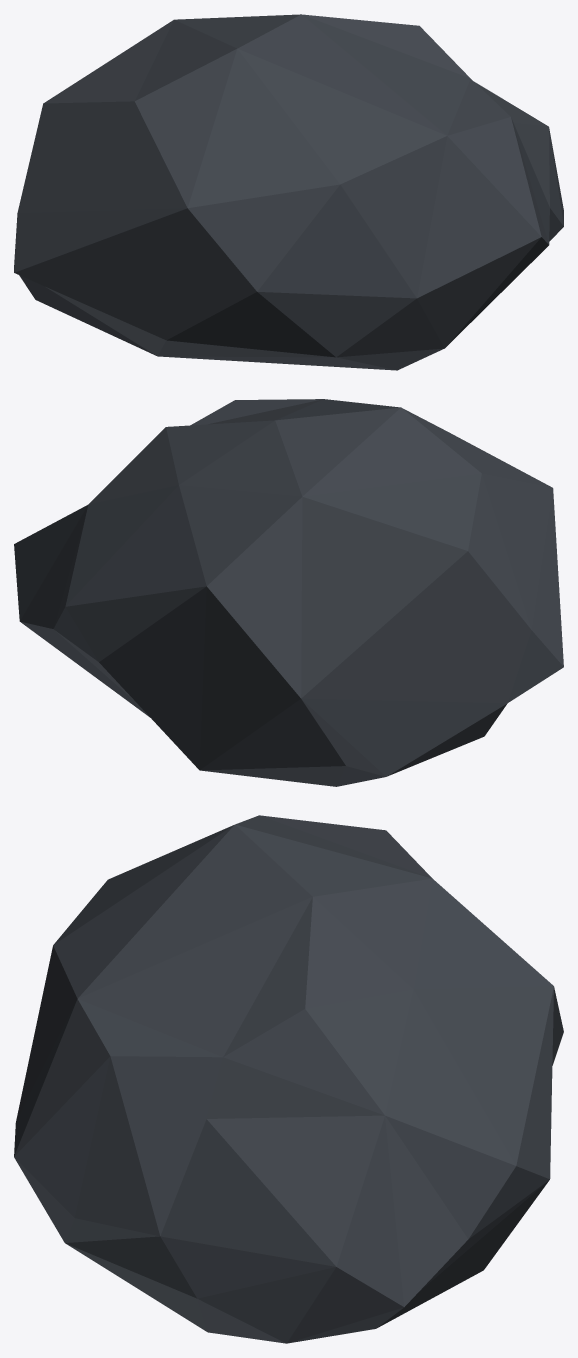
File: stone_drop1_v1.fbx
3 renders of one model, top to bottom at view 1: azimuth 30°, elevation 25°; view 2: azimuth 150°, elevation 25°; view 3: azimuth 270°, elevation 25°, orthographic. The views are drawn at different scales.
Visible parts, largest first — view 1: stone_drop1_v1; view 2: stone_drop1_v1; view 3: stone_drop1_v1.
Boxes of the visible parts, bbox=[...] form: stone_drop1_v1: bbox=[14, 14, 563, 370]; stone_drop1_v1: bbox=[14, 399, 563, 786]; stone_drop1_v1: bbox=[14, 815, 563, 1343].
Size of the model in its own units: 16.32 by 9.94 by 11.78.
